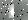person: (6, 5, 14, 19)
